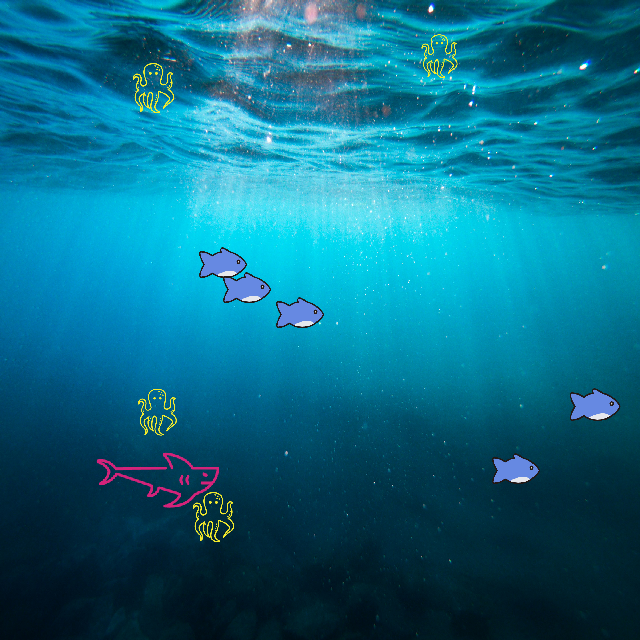target fish: (97, 450, 221, 508)
